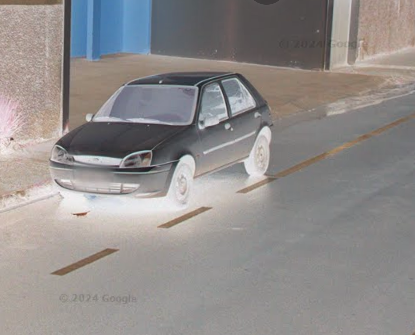car: (46, 68, 284, 219)
